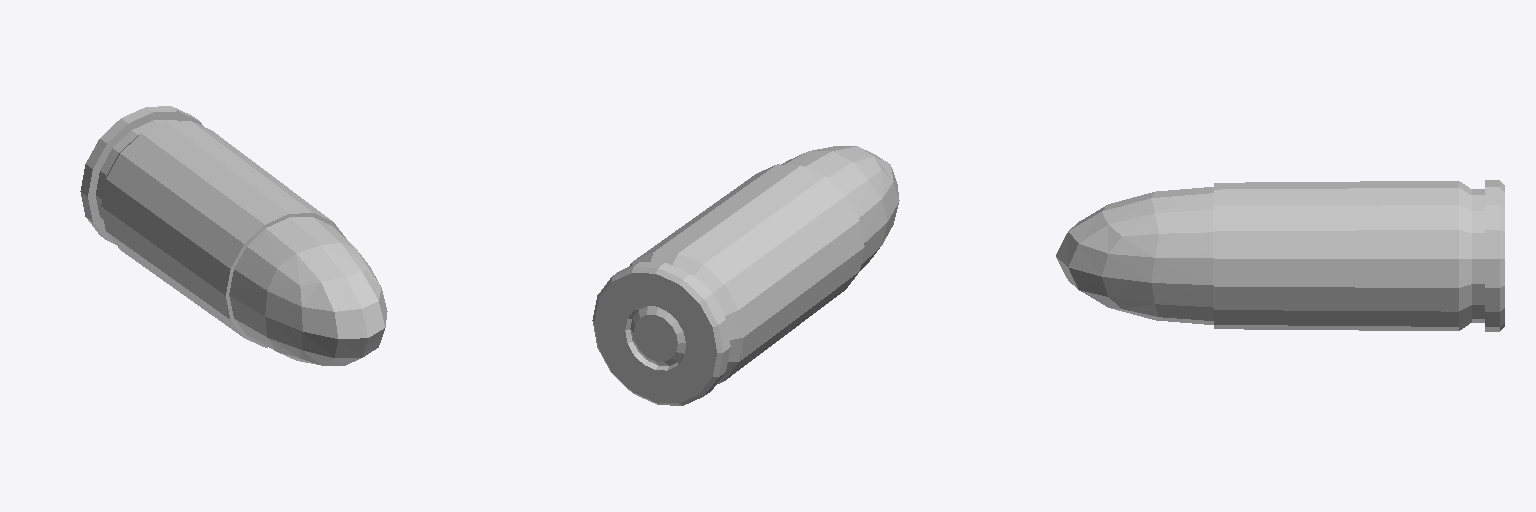
Rendered from bullet.obj.
3 renders of one model, left to right at view 1: azimuth 30°, elevation 25°; view 2: azimuth 150°, elevation 25°; view 3: azimuth 270°, elevation 25°, orthographic.
Visible parts, largest first — view 1: Bullet_9mm_Magazine_Low.001_Magazine.003; view 2: Bullet_9mm_Magazine_Low.001_Magazine.003; view 3: Bullet_9mm_Magazine_Low.001_Magazine.003.
Boxes of the visible parts, x1=… form: Bullet_9mm_Magazine_Low.001_Magazine.003: x1=80, y1=106, x2=387, y2=365; Bullet_9mm_Magazine_Low.001_Magazine.003: x1=592, y1=146, x2=899, y2=405; Bullet_9mm_Magazine_Low.001_Magazine.003: x1=1056, y1=180, x2=1504, y2=331.
Size of the model in its own units: 0.01 by 0.01 by 0.0296.